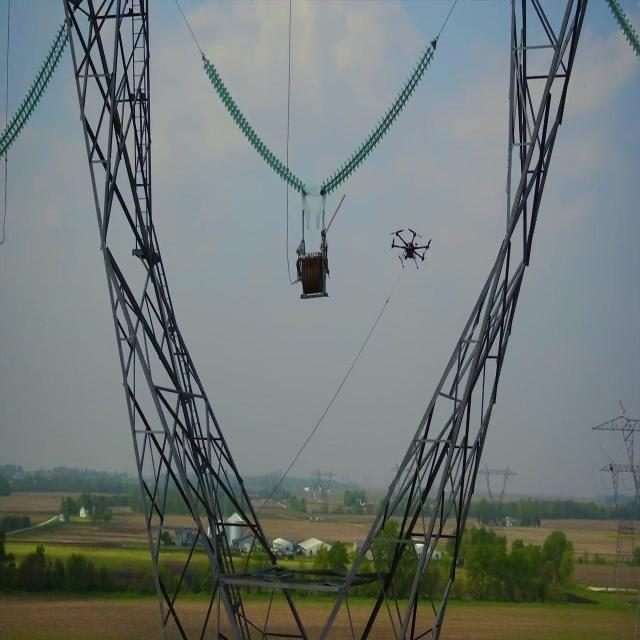drone: (389, 229, 433, 272)
